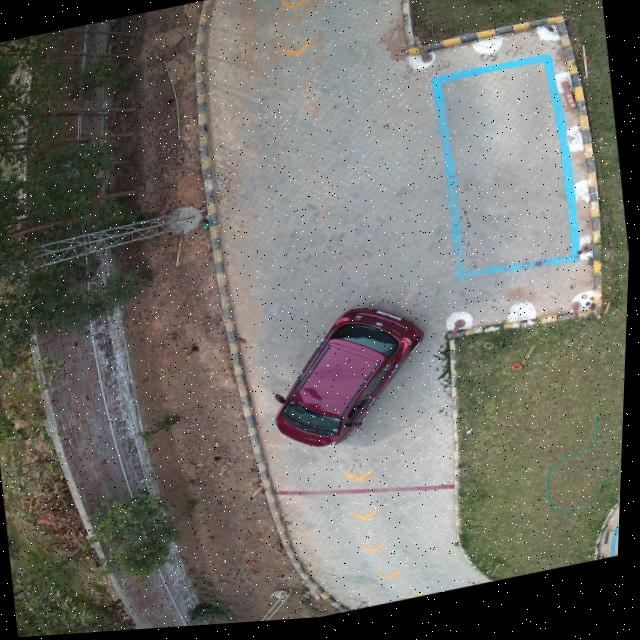car: (282, 311, 426, 452)
